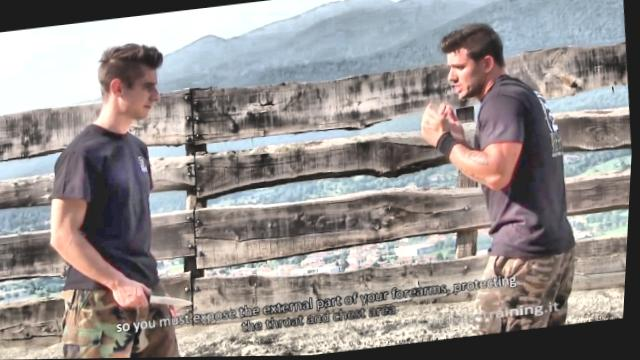knife: (113, 276, 205, 320)
